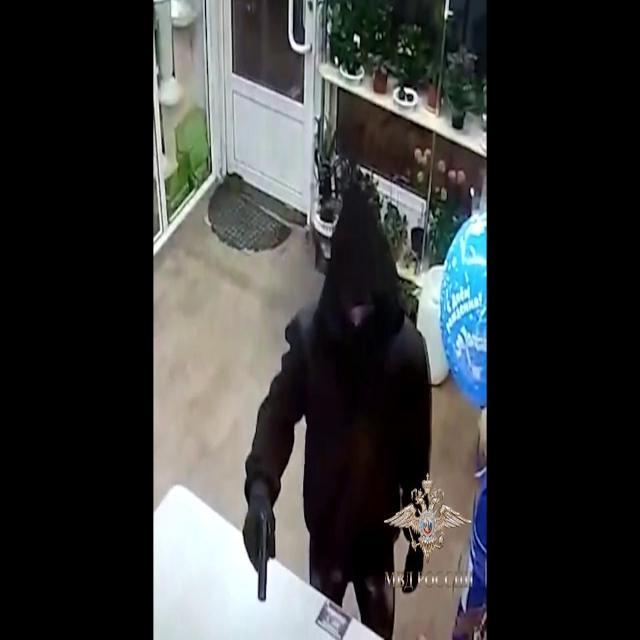pistol: (244, 487, 277, 603)
